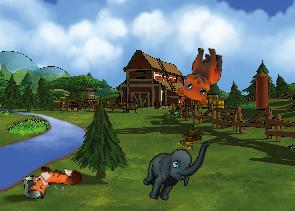bear: (175, 43, 224, 106)
elephant: (139, 128, 211, 210)
fox: (26, 162, 82, 204)
